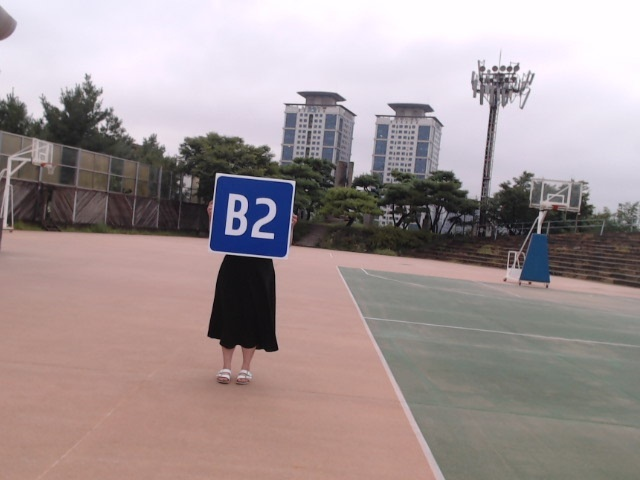delivery_b2: (208, 174, 294, 259)
